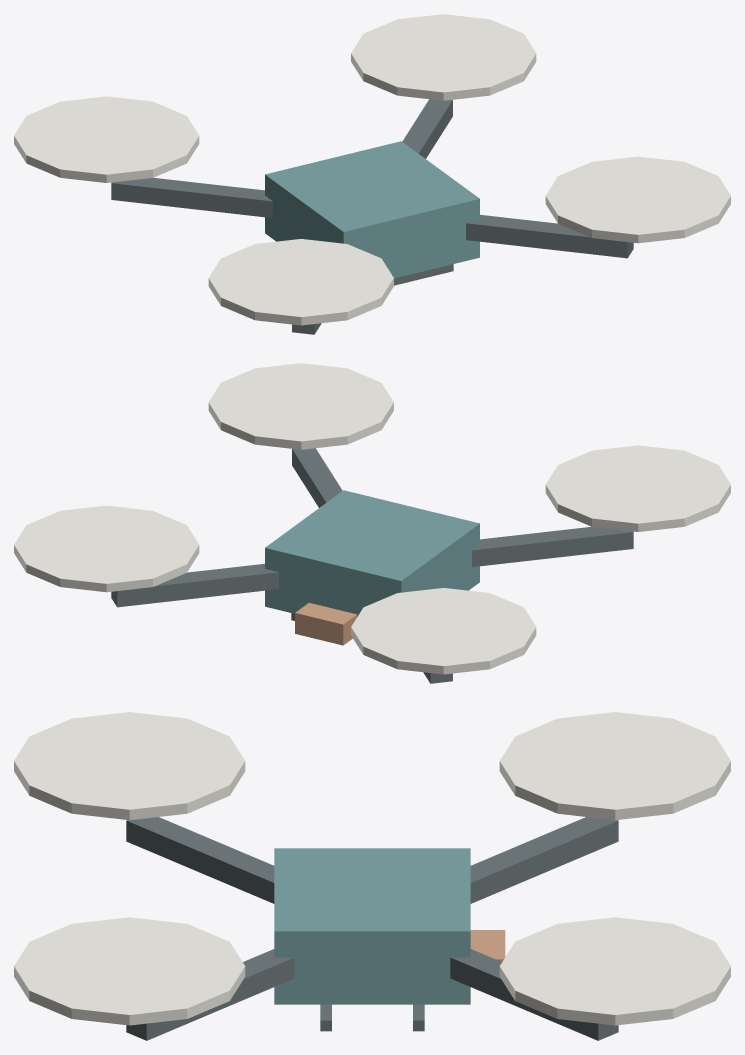
The model's file is drone-ref.glb.
3 renders of one model, top to bottom at view 1: azimuth 30°, elevation 25°; view 2: azimuth 150°, elevation 25°; view 3: azimuth 270°, elevation 25°, orthographic. The views are drawn at different scales.
Parts seen in each view (by area): view 1: drone-ref_root; view 2: drone-ref_root; view 3: drone-ref_root.
Boxes of the visible parts, bbox=[...] form: drone-ref_root: bbox=[14, 14, 730, 334]; drone-ref_root: bbox=[14, 363, 730, 683]; drone-ref_root: bbox=[14, 712, 730, 1040].
Bounding box in the file's own units: 1.24 × 0.25 × 1.24.
